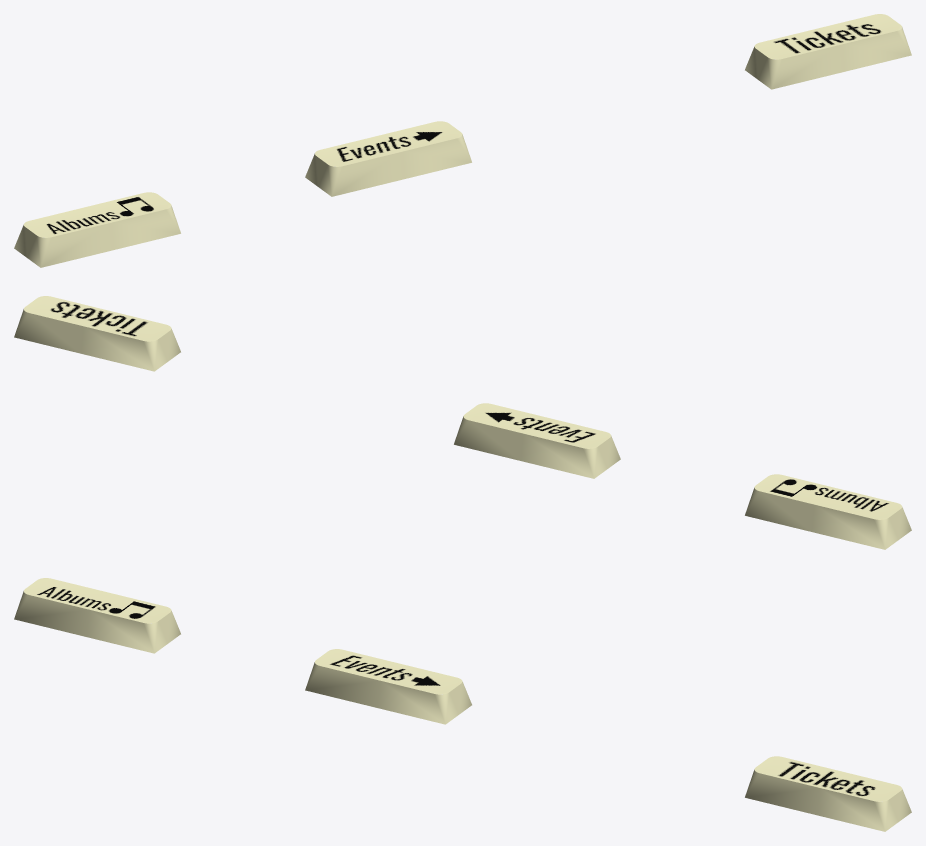
The model's file is action_keys_eng.glb.
The picture shows the model from 3 angles, top to bottom: view 1: azimuth 30°, elevation 25°; view 2: azimuth 150°, elevation 25°; view 3: azimuth 330°, elevation 25°; orthographic projection.
Parts seen in each view (by area): view 1: Events, Teckets, Albums; view 2: Events, Teckets, Albums; view 3: Albums, Teckets, Events.
Boxes of the visible parts, <box> form: Events: <box>305,121,471,196</box>; Teckets: <box>745,14,911,89</box>; Albums: <box>14,192,180,267</box>; Events: <box>454,403,620,478</box>; Teckets: <box>14,296,180,371</box>; Albums: <box>745,474,911,549</box>; Albums: <box>14,578,180,653</box>; Teckets: <box>745,756,911,831</box>; Events: <box>305,649,471,724</box>.
Size of the model in its own units: 4.16 by 0.1185 by 0.2213.
Materials: 1 (1 with a texture image).
